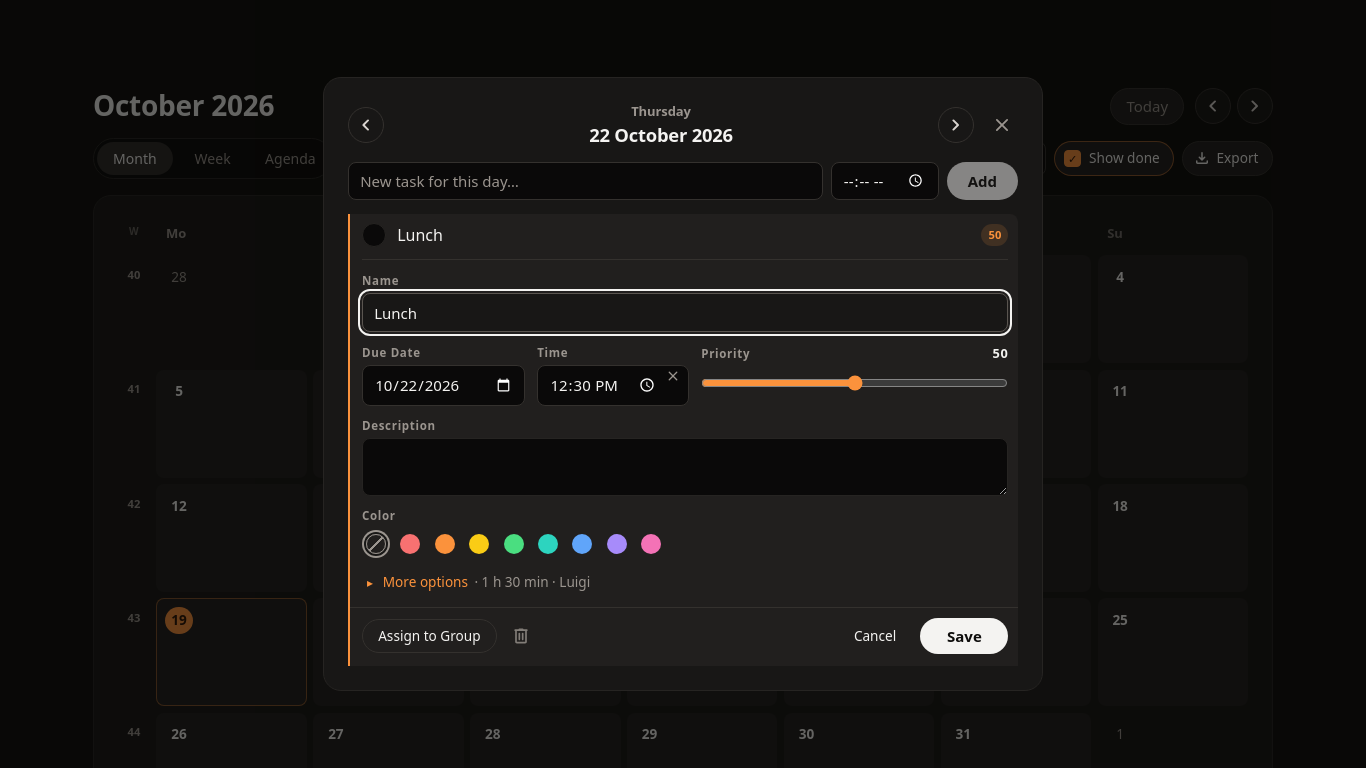
Test: calendar with times and sharing › the owner invites a friend from the editor
Click the button "▸ More options 1 h 30 min · Luigi" at point(477, 583), box x1=362 y1=569 x2=592 y2=596
(page scrolled)
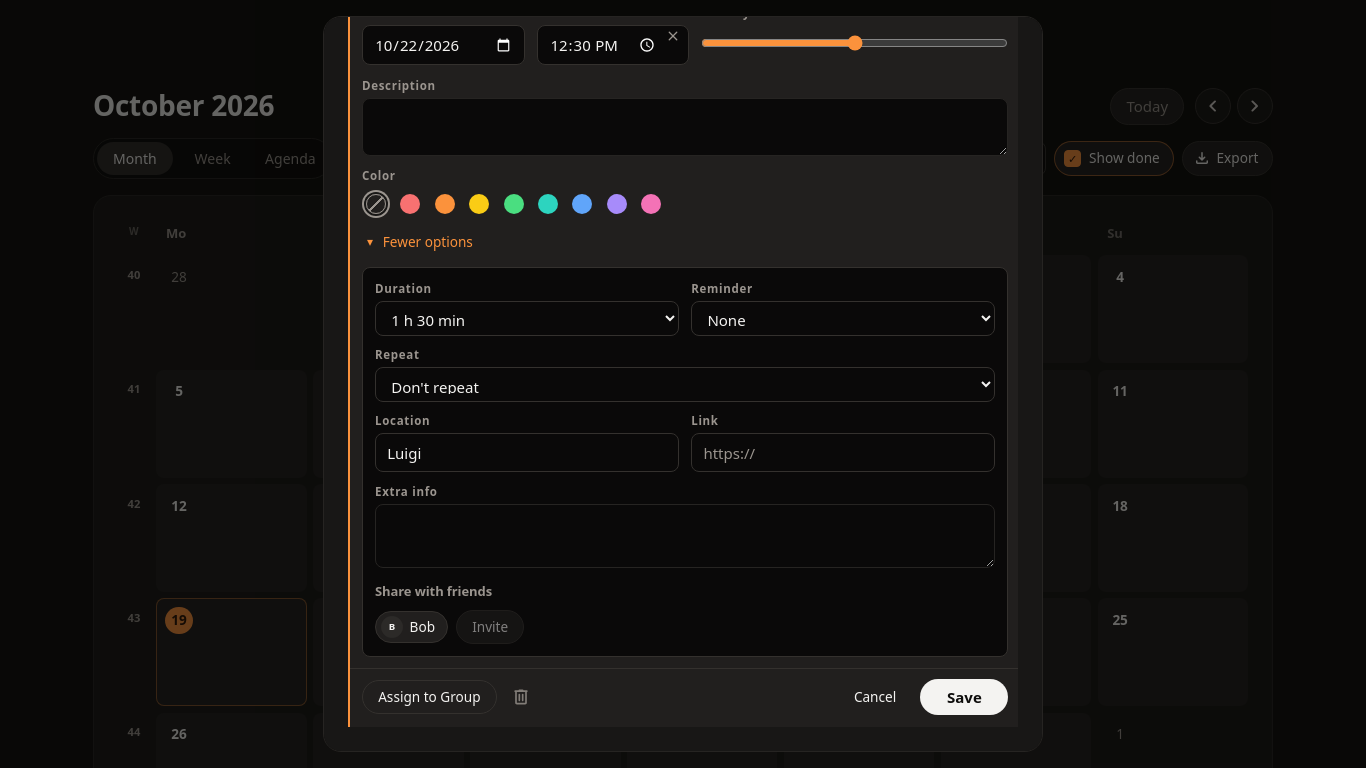
Click the button "B Bob" at point(412, 627), box x1=375 y1=611 x2=448 y2=643
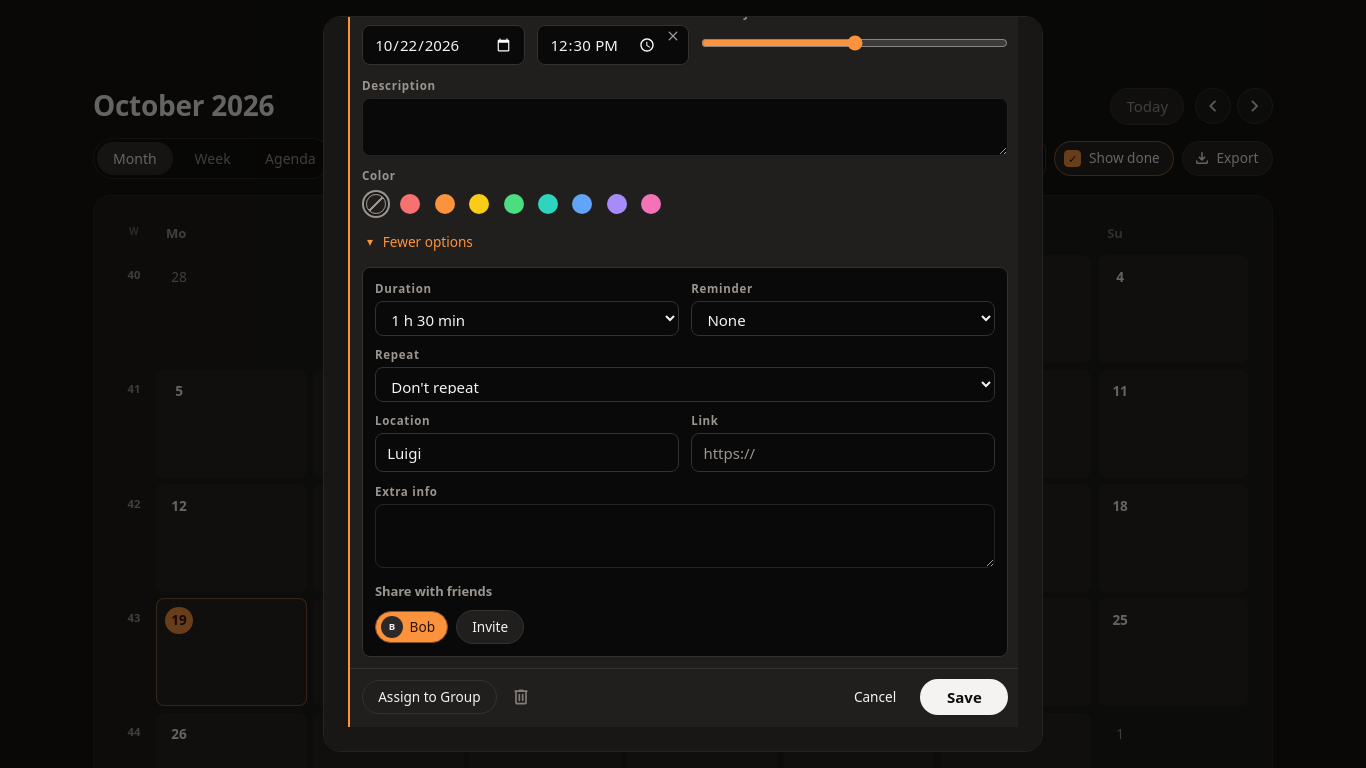
Click the button "Invite" at point(490, 627), box x1=456 y1=610 x2=524 y2=644
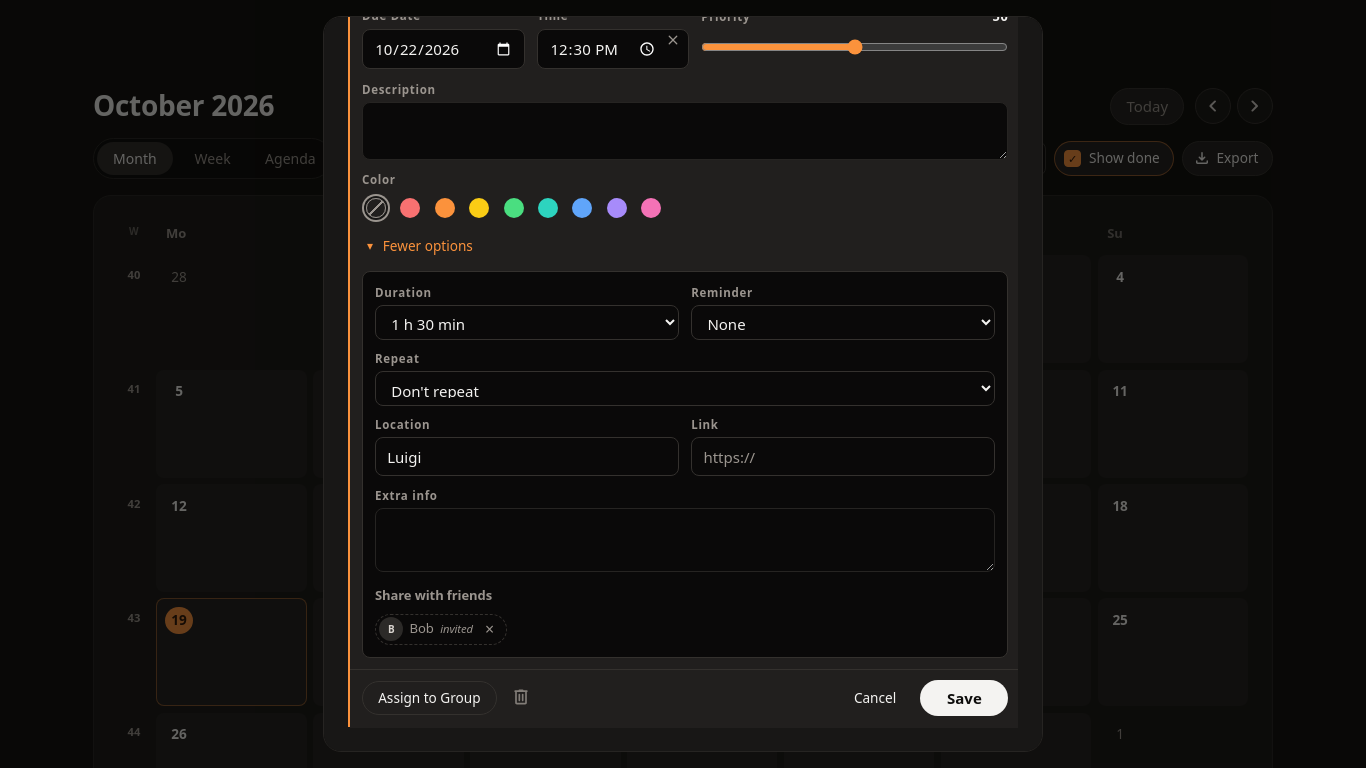
Expected: the text "invited" is shown, x1=440 y1=621 x2=473 y2=638
